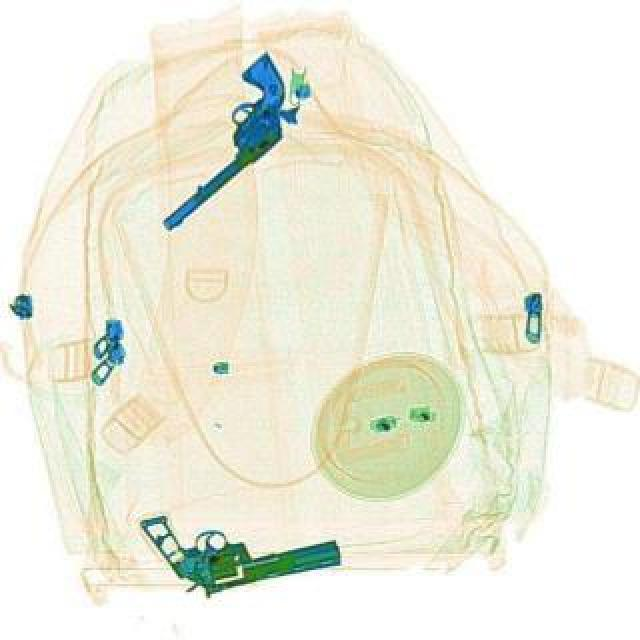gun: (114, 50, 322, 236), (138, 476, 342, 606)
